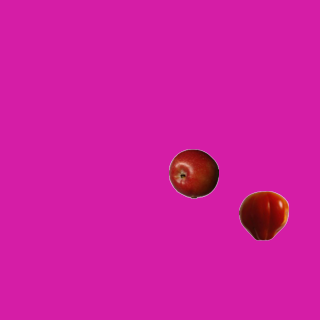Apple Braeburn: (168, 148, 218, 198)
Tomato 1: (238, 190, 288, 240)
